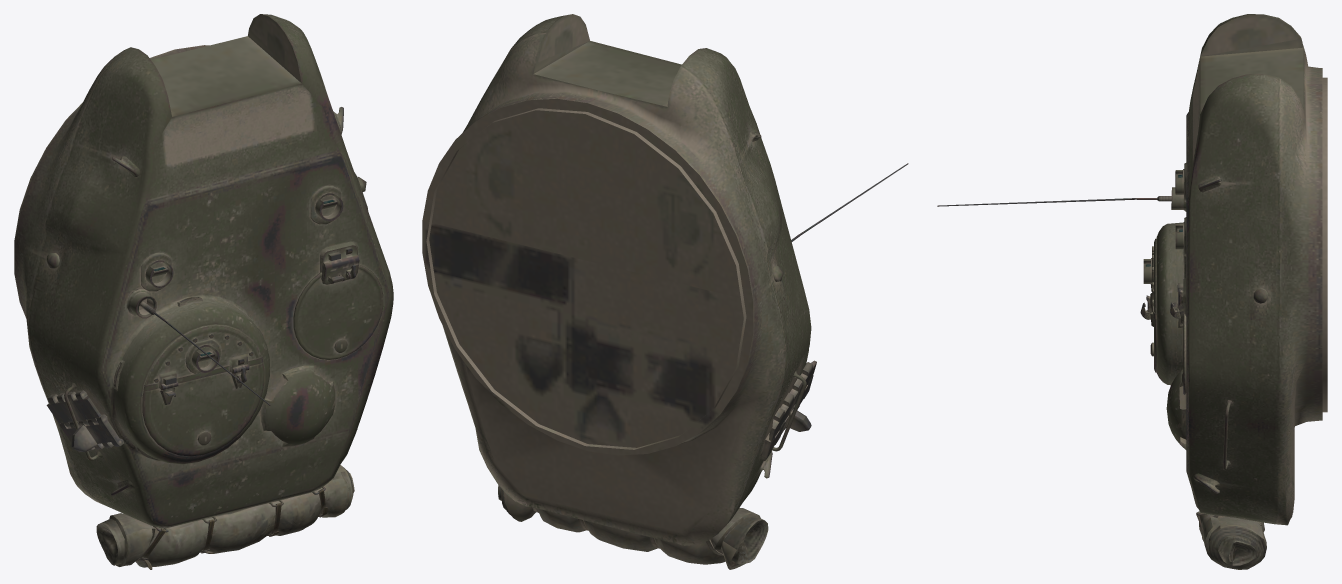
Rendered from Turret_01.glb.
The picture shows the model from 3 angles, left to right: view 1: azimuth 30°, elevation 25°; view 2: azimuth 150°, elevation 25°; view 3: azimuth 270°, elevation 25°; orthographic projection. The views are drawn at different scales.
Parts seen in each view (by area): view 1: set_0_group_0; view 2: set_0_group_0; view 3: set_0_group_0.
Part boxes in pixels (x1,y1,x2,y2): set_0_group_0: (14,14,393,569); set_0_group_0: (422,14,908,569); set_0_group_0: (937,14,1327,569).
Bounding box in the file's own units: 2.11 × 2.99 × 2.2.
Materials: 1 (1 with a texture image).
